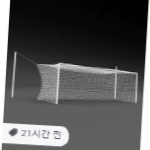goals: (34, 59, 141, 105)
